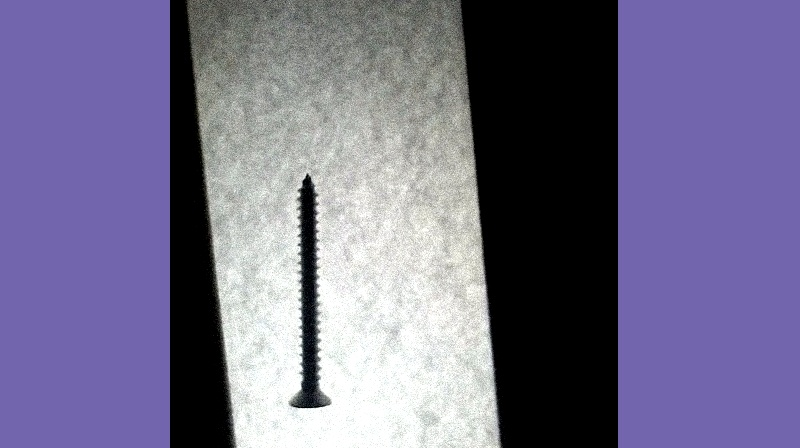S002: (283, 170, 334, 412)
